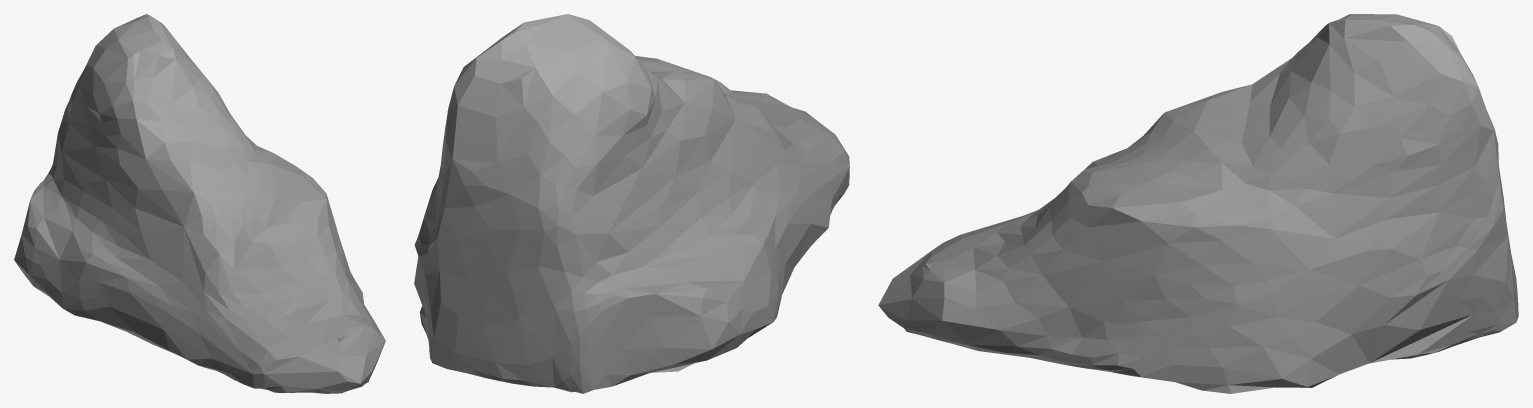
File: Cavern_Wall_End-02.fbx
The picture shows the model from 3 angles, left to right: view 1: azimuth 30°, elevation 25°; view 2: azimuth 150°, elevation 25°; view 3: azimuth 270°, elevation 25°; orthographic projection. The views are drawn at different scales.
Visible parts, largest first — view 1: Cavern_Wall_End-02; view 2: Cavern_Wall_End-02; view 3: Cavern_Wall_End-02.
Part boxes in pixels (x1,y1,x2,y2): Cavern_Wall_End-02: (14,14,385,393); Cavern_Wall_End-02: (414,14,849,393); Cavern_Wall_End-02: (878,14,1518,393).
Bounding box in the file's own units: 1264 × 1072 × 2080.
Materials: 1 (1 with a texture image).
